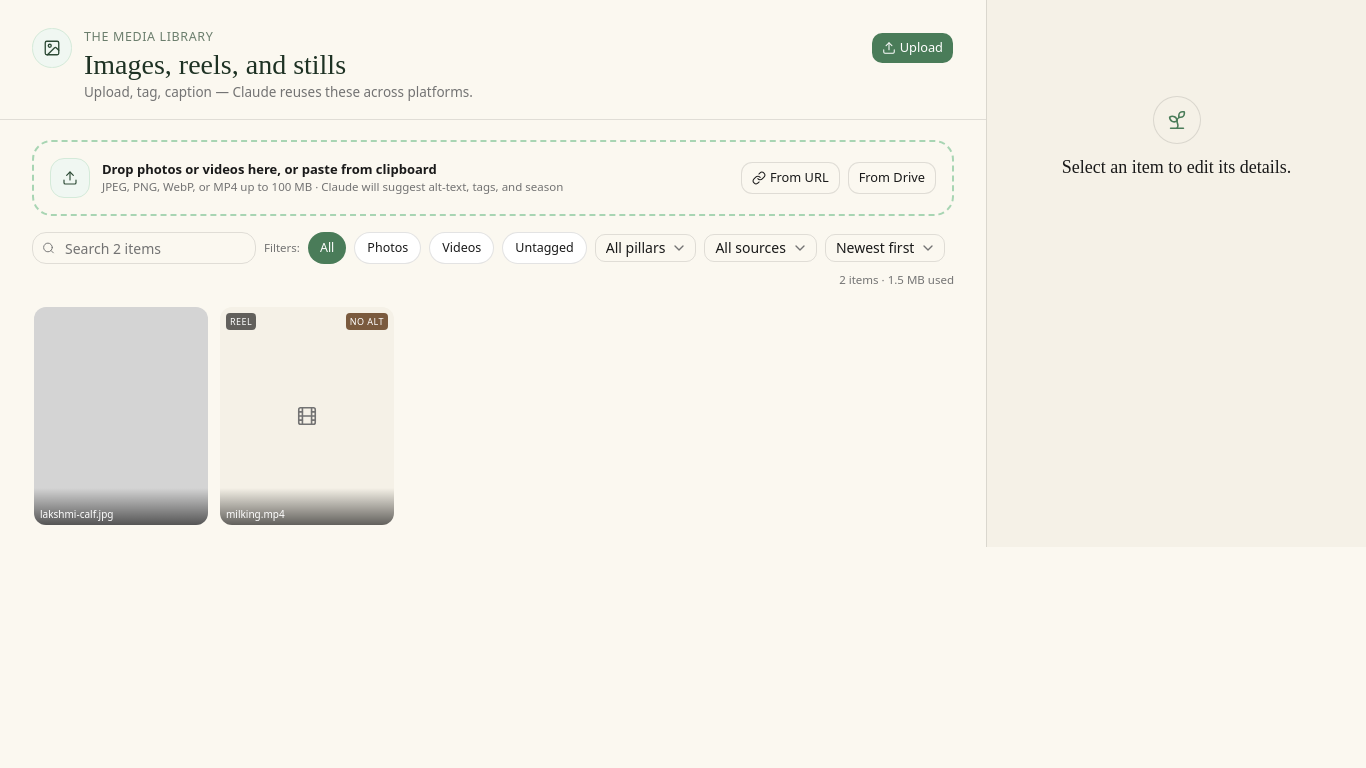
Scenario: MediaPage › shows the no-results state with active filters and clears them
This screenshot has width=1366, height=768.
Expected: the text "lakshmi-calf.jpg" is shown, [40, 507, 114, 521]
Click the button "Photos" at (388,248), box [354, 232, 421, 264]
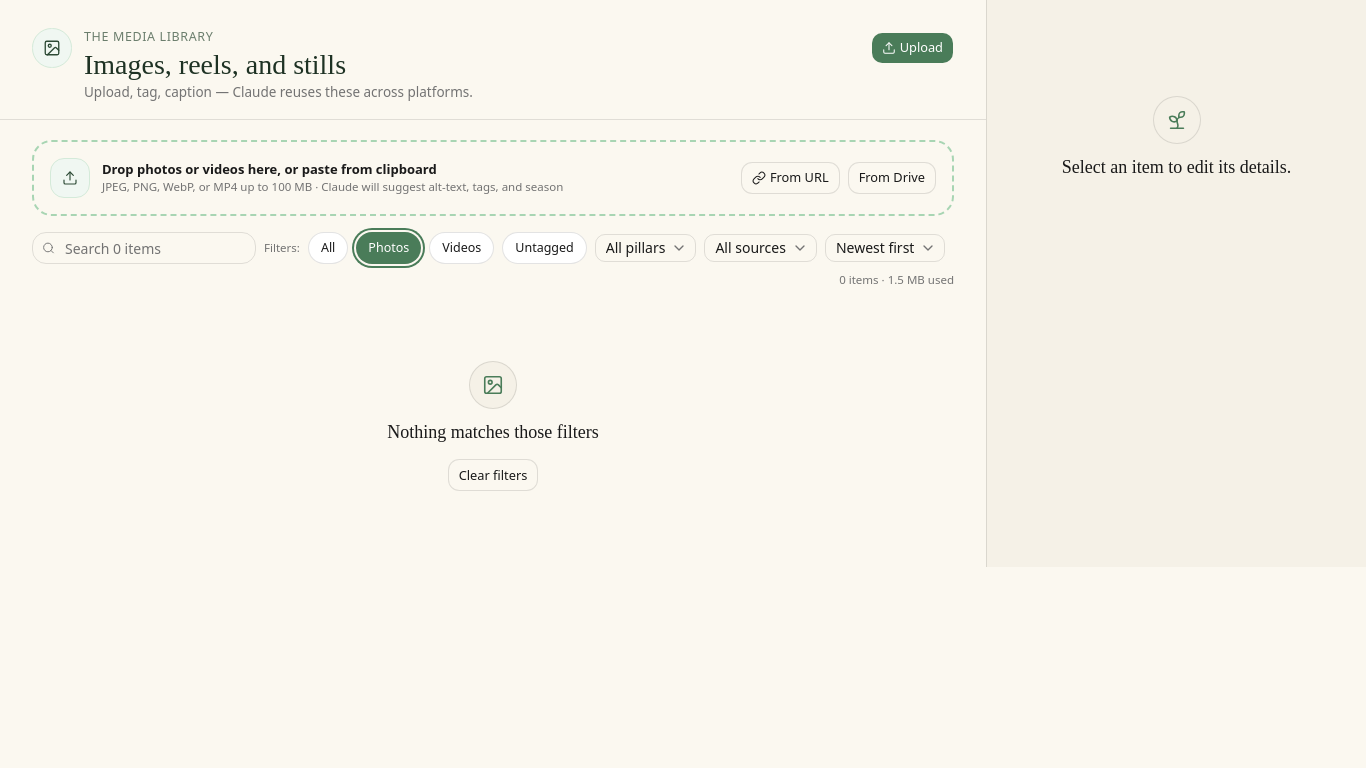
Result: the text "Nothing matches those filters" is shown at [387, 421, 599, 443]
Click the button "Clear filters" at (493,475), box [448, 459, 538, 491]
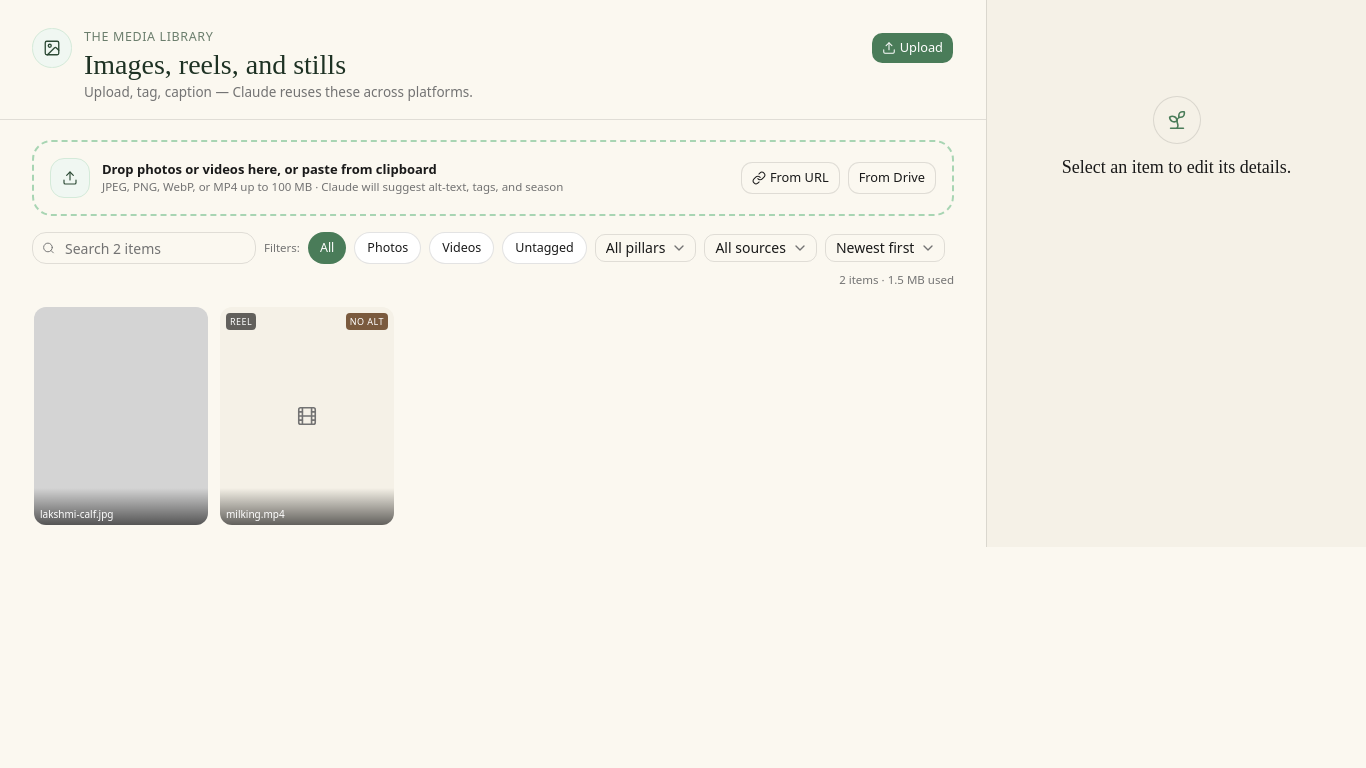
Result: the text "lakshmi-calf.jpg" is shown at [40, 507, 114, 521]
